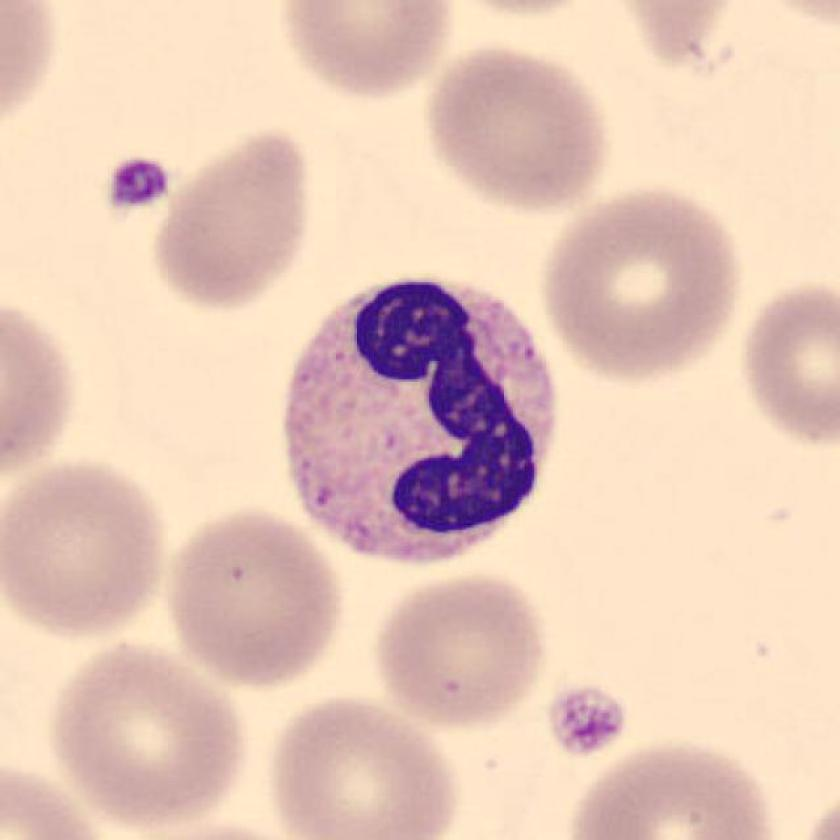neutrophil: (289, 278, 553, 561)
